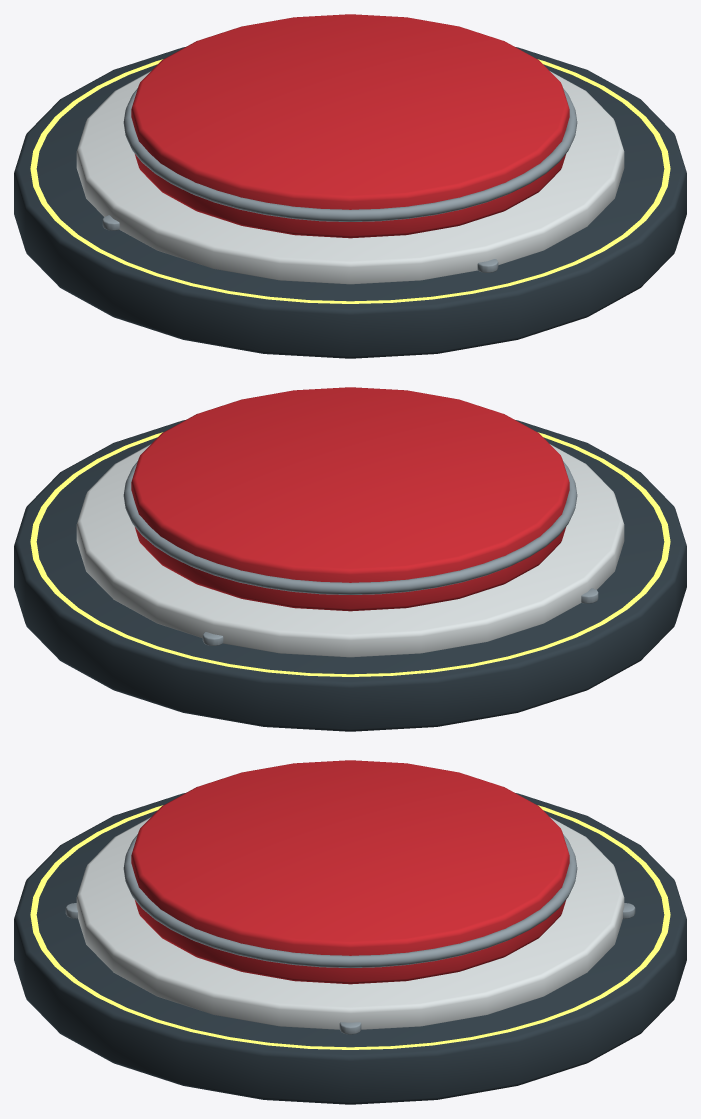
Rendered from button.glb.
The picture shows the model from 3 angles, top to bottom: view 1: azimuth 30°, elevation 25°; view 2: azimuth 150°, elevation 25°; view 3: azimuth 270°, elevation 25°; orthographic projection.
Visible parts, largest first — view 1: Button red cap, Button mount, Button bevel base, Button lip, Button inactive perimeter; view 2: Button red cap, Button mount, Button bevel base, Button lip, Button inactive perimeter; view 3: Button red cap, Button mount, Button bevel base, Button lip, Button inactive perimeter.
Part boxes in pixels (x1,y1,x2,y2): Button red cap: (131,14,569,238); Button mount: (14,47,686,358); Button bevel base: (76,71,624,284); Button lip: (123,88,577,221); Button inactive perimeter: (30,59,670,303); Button red cap: (131,387,569,611); Button mount: (14,420,686,731); Button bevel base: (76,444,624,657); Button lip: (123,461,577,594); Button inactive perimeter: (30,432,670,676); Button red cap: (131,760,569,984); Button mount: (14,793,686,1104); Button bevel base: (76,817,624,1029); Button lip: (123,834,577,967); Button inactive perimeter: (30,805,670,1049).
Bounding box in the file's own units: 0.86 × 0.16 × 0.86.
